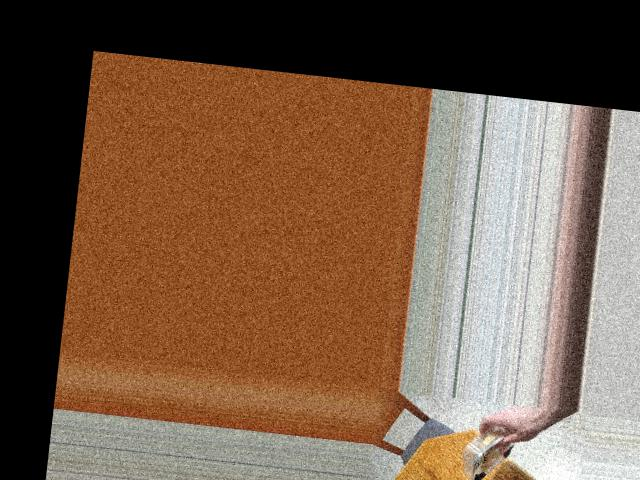cheese: (447, 419, 524, 480)
